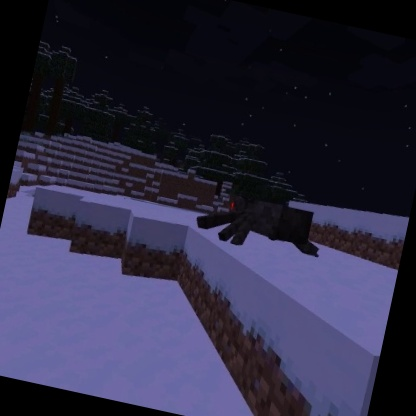spider: (189, 183, 329, 267)
